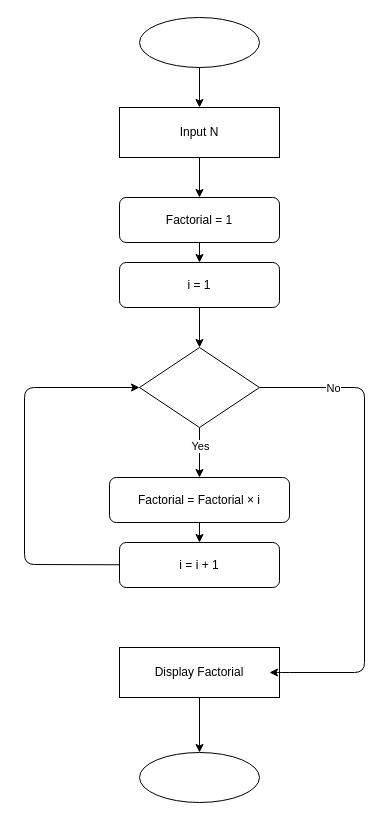
This 390x820 diagram has some shape labels left out. Each missing label, with the centre of its shape:
"END" goes at pixel 199 777.
"i ≤ N?" goes at pixel 199 387.
"START" goes at pixel 199 42.
